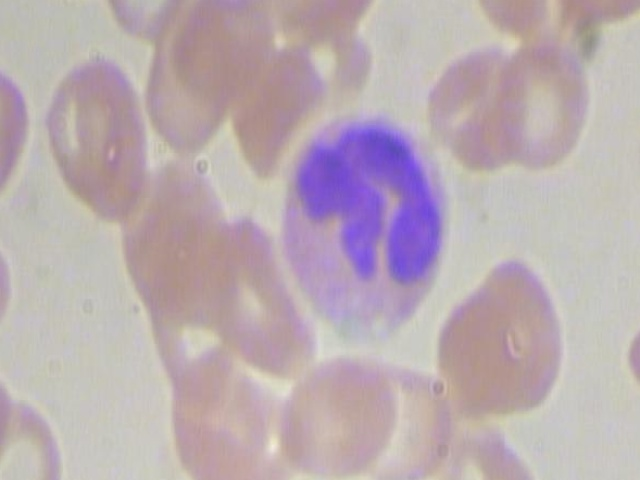Platelets: (631, 102, 640, 177)
RBC: (44, 52, 152, 224), (467, 246, 574, 417), (276, 349, 399, 480), (490, 39, 601, 176), (415, 36, 526, 173), (0, 390, 71, 480)
WBC: (278, 107, 451, 351)
